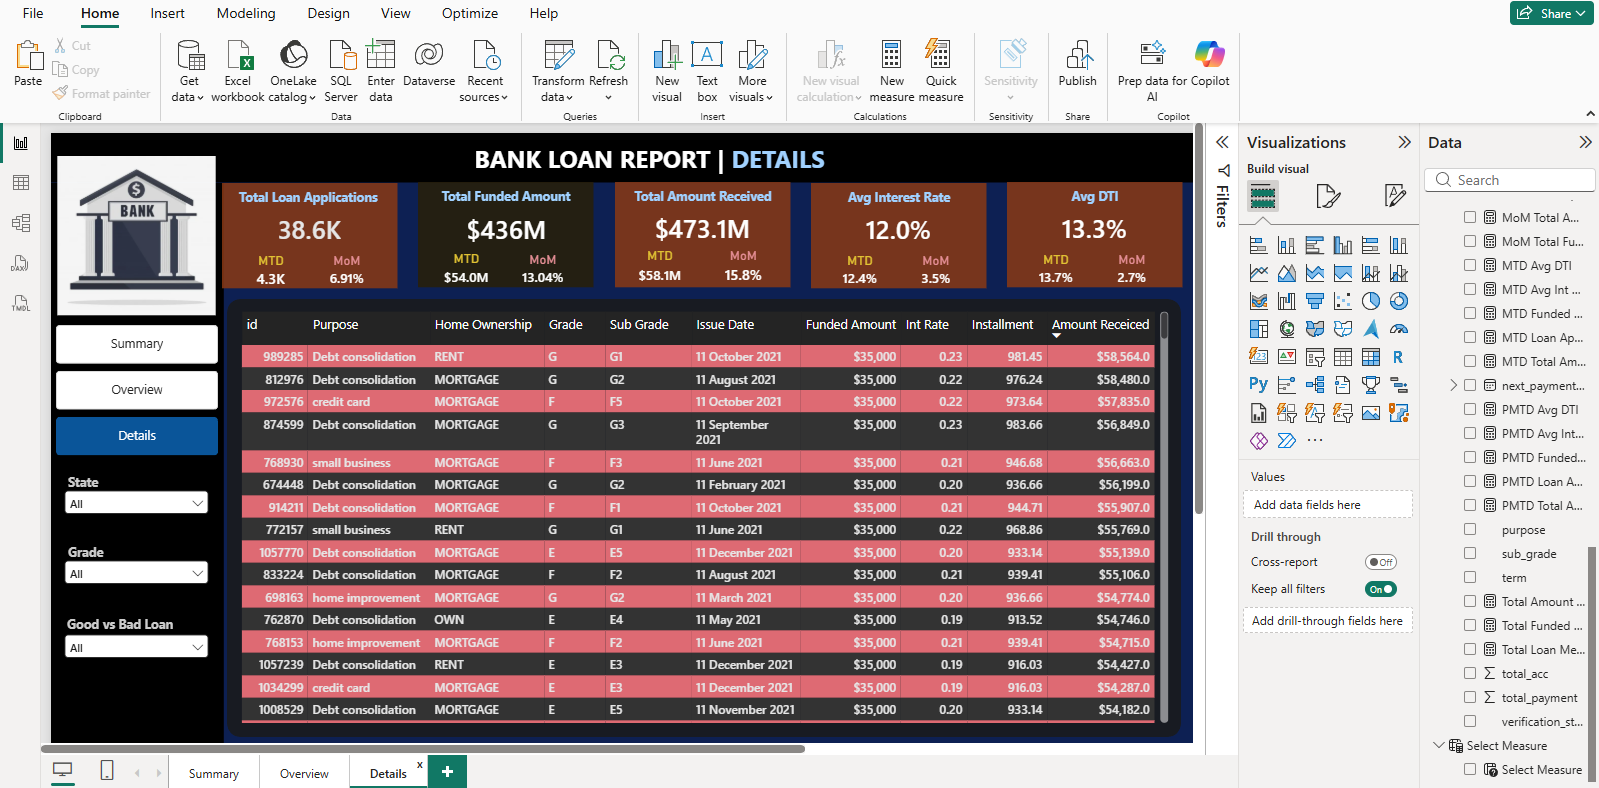

Layout of this report page (visuals, bound fields, positions):
{"tool":"powerbi","page":{"name":"Details","canvas":[1920,1080],"ordinal":2},"visuals":[{"type":"shape","box":[407.8,54.4,195,117],"z":0,"group":"g1"},{"type":"shape","box":[0,55.6,192,655],"z":0},{"type":"shape","box":[0,0,1280,55],"z":1000},{"type":"cardVisual","fields":{"Data":["financial_loan.Total Funded Amount"]},"box":[409.8,81.6,192.2,50],"z":1000,"group":"g1"},{"type":"textbox","box":[448.9,10,432.2,45.6],"z":2000},{"type":"textbox","box":[420,60,171.1,27.8],"z":2000,"group":"g1"},{"type":"group","id":"g1","title":"Group 1","box":[407.8,54.4,195.6,116.7],"z":3000},{"type":"shape","box":[626.1,54.4,195,117],"z":3000,"group":"g3"},{"type":"shape","box":[1062.2,54.4,195,117],"z":3000,"group":"g5"},{"type":"shape","box":[190,55.6,195,117],"z":3000,"group":"g2"},{"type":"shape","box":[843.9,55.6,195,117],"z":3000,"group":"g4"},{"type":"cardVisual","title":"MTD","fields":{"Data":["financial_loan.MTD Funded Amount"]},"box":[409.8,131.6,103.3,40],"z":3000,"group":"g1"},{"type":"group","id":"g2","title":"Group 2","box":[190,55.6,195,117],"z":4000},{"type":"cardVisual","fields":{"Data":["financial_loan.Total Amount Receiced"]},"box":[627.2,80,192.2,50],"z":4000,"group":"g3"},{"type":"cardVisual","fields":{"Data":["financial_loan.Avg DTI"]},"box":[1063.3,80,192.2,50],"z":4000,"group":"g5"},{"type":"cardVisual","fields":{"Data":["financial_loan.Total Loan Measures"]},"box":[191.1,81.2,192.2,50],"z":4000,"group":"g2"},{"type":"cardVisual","fields":{"Data":["financial_loan.Avg Interest Rate"]},"box":[845,81.2,192.2,50],"z":4000,"group":"g4"},{"type":"cardVisual","title":"MoM","fields":{"Data":["financial_loan.MoM Total Funded Amount"]},"box":[504.5,132.2,84.4,38.9],"z":4000,"group":"g1"},{"type":"group","id":"g3","title":"Group 2","box":[626.1,54.4,195,117],"z":5000},{"type":"textbox","box":[638.3,60,171.1,27.8],"z":5000,"group":"g3"},{"type":"textbox","box":[1074.4,60,171.1,27.8],"z":5000,"group":"g5"},{"type":"textbox","box":[202.2,61.2,171.1,27.8],"z":5000,"group":"g2"},{"type":"textbox","box":[856.1,61.2,171.1,27.8],"z":5000,"group":"g4"},{"type":"shape","box":[195.6,184.4,1060,486.7],"z":5000,"group":"g6"},{"type":"cardVisual","title":"MTD","fields":{"Data":["financial_loan.MTD Total Amount Received"]},"box":[629.9,127.2,93.3,43.3],"z":6000,"group":"g3"},{"type":"cardVisual","title":"MTD","fields":{"Data":["financial_loan.MTD Avg DTI"]},"box":[1074.4,132.2,84.4,38.9],"z":6000,"group":"g5"},{"type":"cardVisual","title":"MTD","fields":{"Data":["financial_loan.MTD Loan Applications"]},"box":[202.2,133.4,84.4,38.9],"z":6000,"group":"g2"},{"type":"cardVisual","title":"MTD","fields":{"Data":["financial_loan.MTD Avg Int Rate"]},"box":[856.1,133.4,84.4,38.9],"z":6000,"group":"g4"},{"type":"cardVisual","title":"MoM","fields":{"Data":["financial_loan.MoM Total Amount Received"]},"box":[722.9,127.2,92.2,43.3],"z":7000,"group":"g3"},{"type":"cardVisual","title":"MoM","fields":{"Data":["financial_loan.MoM Avg DTI"]},"box":[1158.9,132.2,84.4,38.9],"z":7000,"group":"g5"},{"type":"cardVisual","title":"MoM","fields":{"Data":["financial_loan.MoM Loan Application"]},"box":[286.7,133.4,84.4,38.9],"z":7000,"group":"g2"},{"type":"cardVisual","title":"MoM","fields":{"Data":["financial_loan.MoM Avg Interest Rate"]},"box":[940.6,133.4,84.4,38.9],"z":7000,"group":"g4"},{"type":"group","id":"g4","title":"Group 2","box":[843.9,55.6,195.6,116.7],"z":8000},{"type":"group","id":"g5","title":"Group 2","box":[1062.2,54.4,195.6,116.7],"z":9000},{"type":"group","id":"g6","title":"Group 4","box":[195.6,184.4,1060,486.7],"z":10000},{"type":"textbox","box":[17.8,312.2,138.9,27.8],"z":11000},{"type":"group","id":"g7","title":"Group 5","box":[10,377.8,170,56.7],"z":12000},{"type":"textbox","box":[18.9,377.8,51.1,27.8],"z":12000,"group":"g7"},{"type":"textbox","box":[18.9,455.6,51.1,27.8],"z":12000,"group":"g8"},{"type":"textbox","box":[17.8,535,141.1,31.1],"z":12000,"group":"g9"},{"type":"group","id":"g8","title":"Group 5","box":[10,455.6,170,56.7],"z":13000},{"type":"slicer","fields":{"Values":["financial_loan.address_state"]},"box":[10,392.2,170,42.2],"z":14000,"group":"g7"},{"type":"slicer","fields":{"Values":["financial_loan.grade"]},"box":[10,470,170,42.2],"z":14000,"group":"g8"},{"type":"group","id":"g9","title":"Group 5","box":[10,535,170,59.4],"z":14000},{"type":"slicer","fields":{"Values":["financial_loan.Good vd Bad Loans"]},"box":[10,552.2,170,42.2],"z":14000,"group":"g9"},{"type":"slicer","fields":{"Values":["Parameter.Parameter"]},"box":[10,326.7,170,37.8],"z":16000},{"type":"tableEx","fields":{"Values":["financial_loan.id","financial_loan.purpose","financial_loan.home_ownership","financial_loan.grade","financial_loan.sub_grade","financial_loan.issue_date","financial_loan.Total Funded Amount","Sum(financial_loan.int_rate)","Sum(financial_loan.installment)","financial_loan.Total Amount Receiced"]},"box":[195.6,184.4,1062.2,486.7],"z":16001},{"type":"image","box":[0,25.6,190,176.7],"z":16002},{"type":"pageNavigator","box":[5.6,213.3,180,146.7],"z":16003}]}

Visuals, with their boxes on the page's 1920x1080 design canvas (x1, y1, x2, y2). These are canvas units, not pixel positions in the 1599x788 screenshot, which may show the page scaled, cropped or inside an application window:
shape: [408, 54, 603, 171]
shape: [0, 56, 192, 711]
shape: [0, 0, 1280, 55]
cardVisual - financial_loan.Total Funded Amount: [410, 82, 602, 132]
textbox: [449, 10, 881, 56]
textbox: [420, 60, 591, 88]
"Group 1" group: [408, 54, 603, 171]
shape: [626, 54, 821, 171]
shape: [1062, 54, 1257, 171]
shape: [190, 56, 385, 173]
shape: [844, 56, 1039, 173]
"MTD" cardVisual: [410, 132, 513, 172]
"Group 2" group: [190, 56, 385, 173]
cardVisual - financial_loan.Total Amount Receiced: [627, 80, 819, 130]
cardVisual - financial_loan.Avg DTI: [1063, 80, 1256, 130]
cardVisual - financial_loan.Total Loan Measures: [191, 81, 383, 131]
cardVisual - financial_loan.Avg Interest Rate: [845, 81, 1037, 131]
"MoM" cardVisual: [504, 132, 589, 171]
"Group 2" group: [626, 54, 821, 171]
textbox: [638, 60, 809, 88]
textbox: [1074, 60, 1246, 88]
textbox: [202, 61, 373, 89]
textbox: [856, 61, 1027, 89]
shape: [196, 184, 1256, 671]
"MTD" cardVisual: [630, 127, 723, 170]
"MTD" cardVisual: [1074, 132, 1159, 171]
"MTD" cardVisual: [202, 133, 287, 172]
"MTD" cardVisual: [856, 133, 940, 172]
"MoM" cardVisual: [723, 127, 815, 170]
"MoM" cardVisual: [1159, 132, 1243, 171]
"MoM" cardVisual: [287, 133, 371, 172]
"MoM" cardVisual: [941, 133, 1025, 172]
"Group 2" group: [844, 56, 1040, 172]
"Group 2" group: [1062, 54, 1258, 171]
"Group 4" group: [196, 184, 1256, 671]
textbox: [18, 312, 157, 340]
"Group 5" group: [10, 378, 180, 434]
textbox: [19, 378, 70, 406]
textbox: [19, 456, 70, 483]
textbox: [18, 535, 159, 566]
"Group 5" group: [10, 456, 180, 512]
slicer - financial_loan.address_state: [10, 392, 180, 434]
slicer - financial_loan.grade: [10, 470, 180, 512]
"Group 5" group: [10, 535, 180, 594]
slicer - financial_loan.Good vd Bad Loans: [10, 552, 180, 594]
slicer - Parameter.Parameter: [10, 327, 180, 364]
tableEx - financial_loan.id x financial_loan.purpose: [196, 184, 1258, 671]
image: [0, 26, 190, 202]
pageNavigator: [6, 213, 186, 360]
